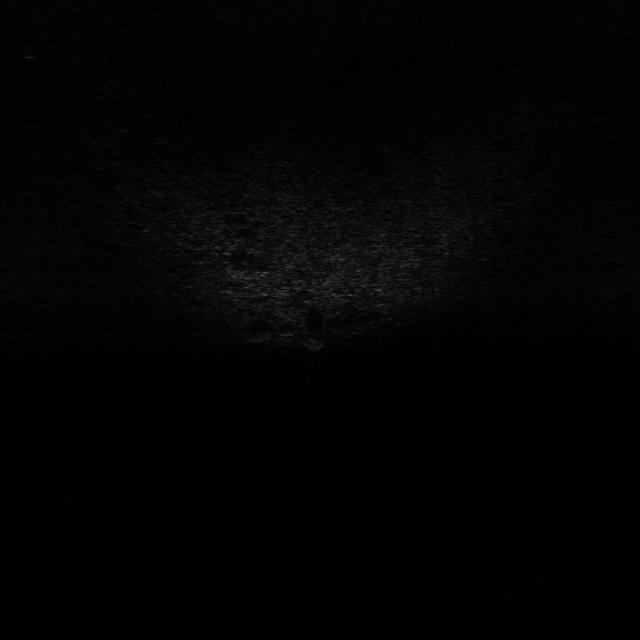cube: (303, 334, 326, 355)
